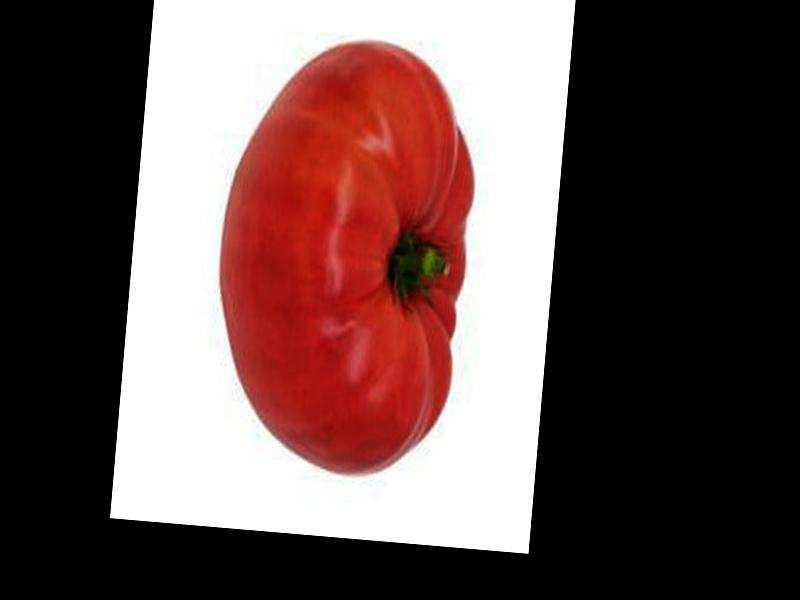Tomato: (205, 30, 479, 481)
